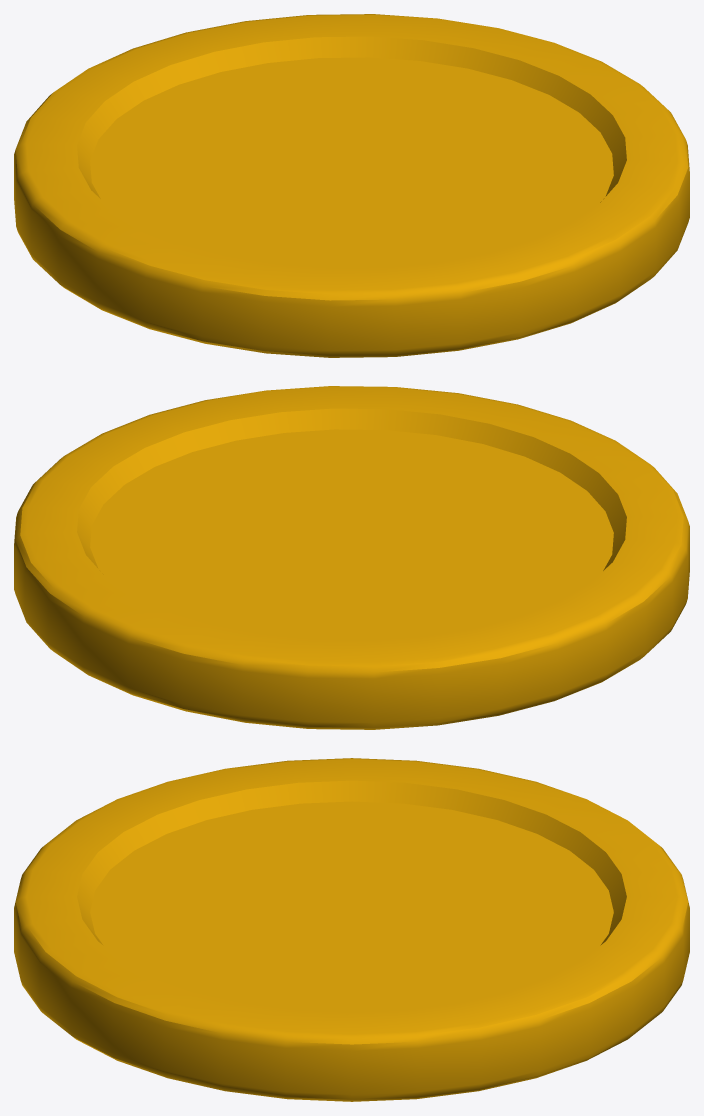
Rendered from moneda.glb.
The picture shows the model from 3 angles, top to bottom: view 1: azimuth 30°, elevation 25°; view 2: azimuth 150°, elevation 25°; view 3: azimuth 270°, elevation 25°; orthographic projection.
Visible parts, largest first — view 1: moneda; view 2: moneda; view 3: moneda.
Part boxes in pixels (x1=…): moneda: x1=14, y1=14, x2=689, y2=357; moneda: x1=14, y1=386, x2=689, y2=729; moneda: x1=14, y1=758, x2=689, y2=1101.
Bounding box in the file's own units: 1.28 × 0.1385 × 1.28.
